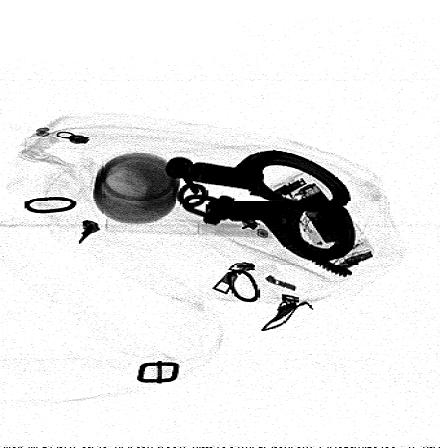HandCuffs: (165, 150, 355, 277)
